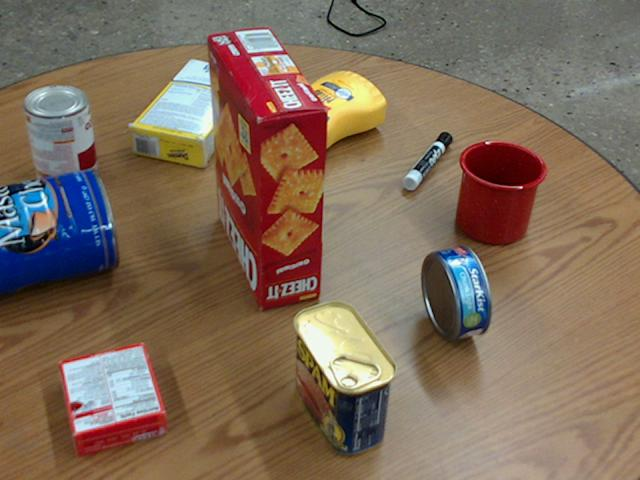cracker_box: (206, 27, 327, 308)
gelatin_box: (59, 342, 167, 454)
large_marker: (402, 132, 452, 189)
master_chef_can: (0, 166, 118, 295)
mug: (454, 139, 546, 243)
mustard_bottle: (240, 72, 385, 157)
potted_meat_can: (292, 300, 398, 455)
sugar_box: (129, 57, 254, 166)
tomato_soup_can: (23, 84, 98, 196)
tuna_fish_can: (422, 244, 490, 339)
